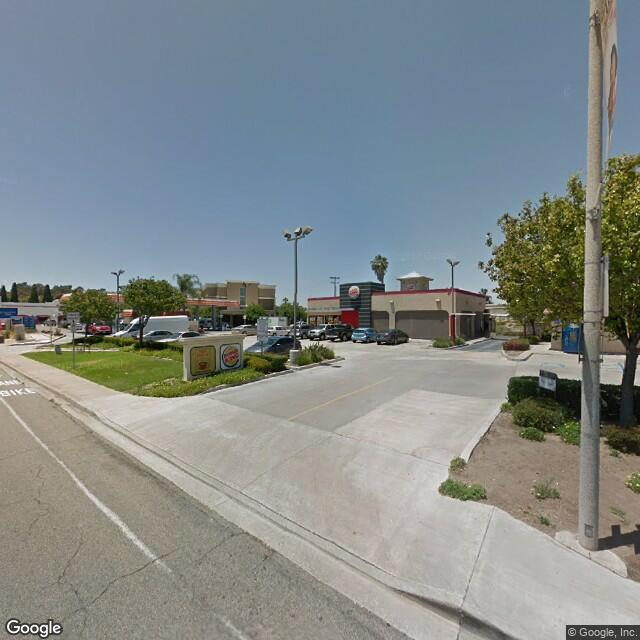litter: (49, 397, 56, 405), (123, 370, 131, 375), (107, 373, 112, 379)
